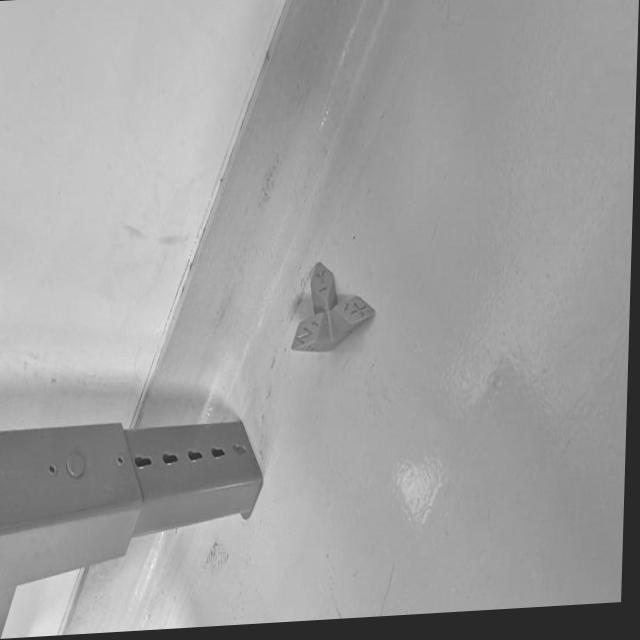eje: (288, 253, 379, 362)
